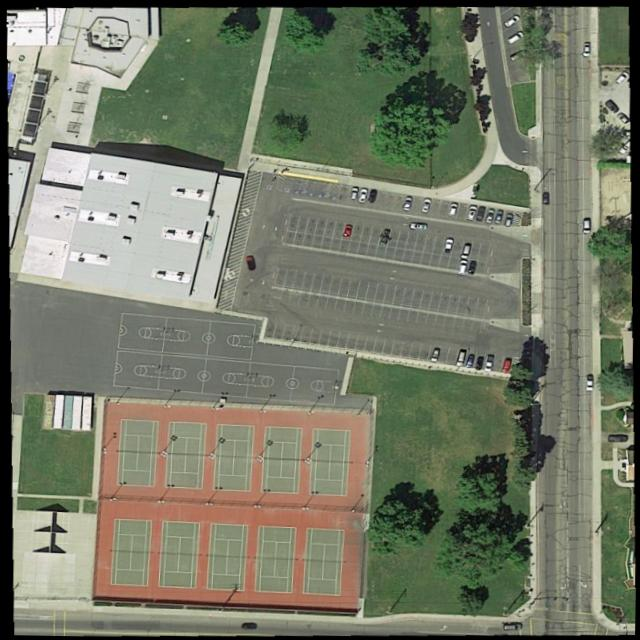small-vehicle: (503, 29, 524, 45), (507, 47, 526, 62), (500, 13, 520, 27), (611, 69, 628, 85), (602, 97, 619, 112), (376, 226, 389, 244), (457, 241, 470, 259), (463, 204, 477, 220), (500, 621, 521, 631), (243, 254, 256, 270), (473, 204, 485, 221), (454, 348, 465, 366), (446, 201, 459, 216), (614, 110, 629, 123), (440, 237, 453, 252), (427, 347, 439, 362), (483, 353, 493, 371), (492, 207, 503, 223), (500, 356, 511, 372), (408, 221, 427, 230), (584, 373, 594, 390), (606, 433, 627, 441), (420, 197, 431, 212), (455, 259, 466, 274), (356, 187, 366, 203), (483, 208, 494, 222), (502, 212, 513, 226), (473, 355, 483, 370), (463, 352, 473, 367), (466, 259, 476, 274), (366, 188, 376, 203), (402, 196, 412, 211), (581, 216, 590, 232), (341, 223, 352, 236), (347, 186, 357, 200), (581, 40, 589, 55), (240, 621, 255, 629), (540, 191, 548, 204)
